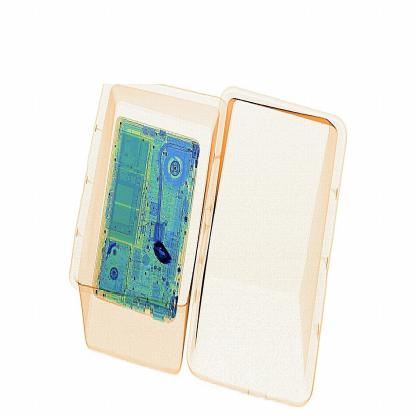scissors: (155, 244, 174, 270)
